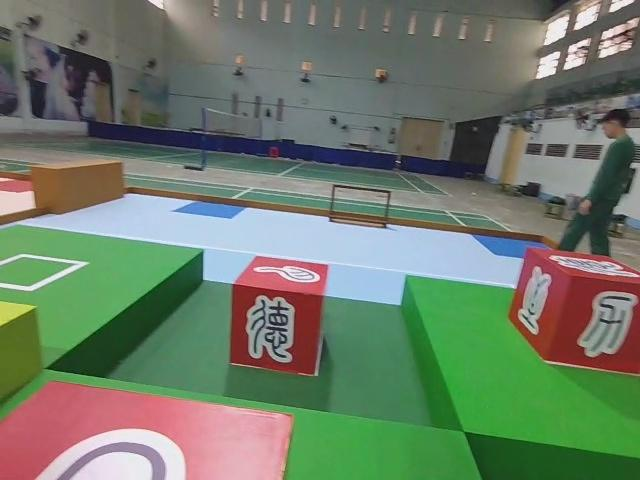R2 Fake: (506, 243, 640, 379), (228, 251, 334, 376)
